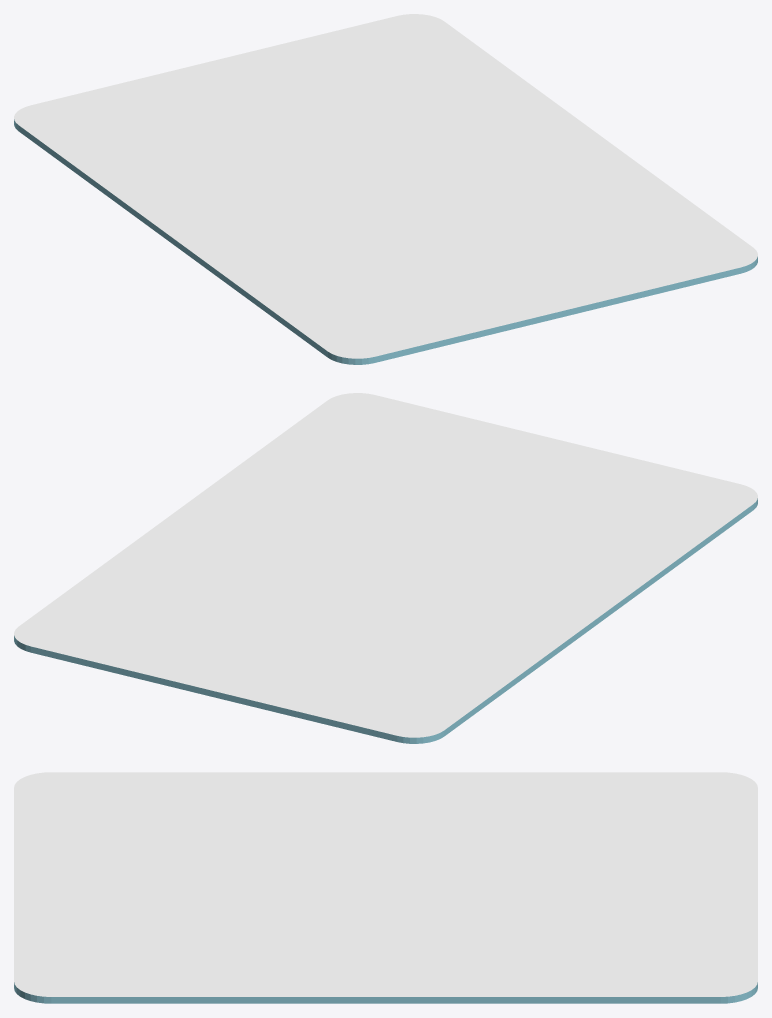
The model's file is card_shatter_07.glb.
3 views of the same model, one above another, from view 1: azimuth 30°, elevation 25°; view 2: azimuth 150°, elevation 25°; view 3: azimuth 270°, elevation 25° (orthographic). The views are drawn at different scales.
Parts seen in each view (by area): view 1: V07_CardPiece_06, V07_CardPiece_03, V07_CardPiece_10, V07_CardPiece_04, V07_CardPiece_05, V07_CardPiece_08, V07_CardPiece_02, V07_CardPiece_01, V07_CardPiece_07, V07_CardPiece_09; view 2: V07_CardPiece_06, V07_CardPiece_10, V07_CardPiece_03, V07_CardPiece_08, V07_CardPiece_05, V07_CardPiece_04, V07_CardPiece_07, V07_CardPiece_01, V07_CardPiece_02, V07_CardPiece_09; view 3: V07_CardPiece_10, V07_CardPiece_05, V07_CardPiece_03, V07_CardPiece_06, V07_CardPiece_08, V07_CardPiece_04, V07_CardPiece_07, V07_CardPiece_02, V07_CardPiece_01, V07_CardPiece_09.
Part boxes in pixels (x1,y1,x2,y2): V07_CardPiece_06: (14,95,236,256); V07_CardPiece_03: (276,155,516,264); V07_CardPiece_10: (358,14,591,155); V07_CardPiece_04: (496,199,749,314); V07_CardPiece_05: (486,129,757,270); V07_CardPiece_08: (72,49,364,147); V07_CardPiece_02: (295,241,570,349); V07_CardPiece_01: (190,236,427,364); V07_CardPiece_07: (181,131,409,239); V07_CardPiece_09: (261,25,452,159); V07_CardPiece_06: (356,593,615,743); V07_CardPiece_10: (14,518,287,662); V07_CardPiece_03: (272,486,544,580); V07_CardPiece_08: (167,592,375,731); V07_CardPiece_05: (166,393,364,543); V07_CardPiece_04: (346,393,544,511); V07_CardPiece_07: (316,570,570,667); V07_CardPiece_01: (543,471,757,610); V07_CardPiece_02: (493,436,687,570); V07_CardPiece_09: (71,556,319,685); V07_CardPiece_10: (400,928,757,1003); V07_CardPiece_05: (16,929,400,1003); V07_CardPiece_03: (152,814,431,940); V07_CardPiece_06: (347,772,757,832); V07_CardPiece_08: (484,809,757,909); V07_CardPiece_04: (14,885,286,992); V07_CardPiece_07: (335,796,618,908); V07_CardPiece_02: (14,815,311,891); V07_CardPiece_01: (14,772,348,818); V07_CardPiece_09: (419,897,757,960).
Size of the model in its own units: 0.429 by 0.006 by 0.6.
